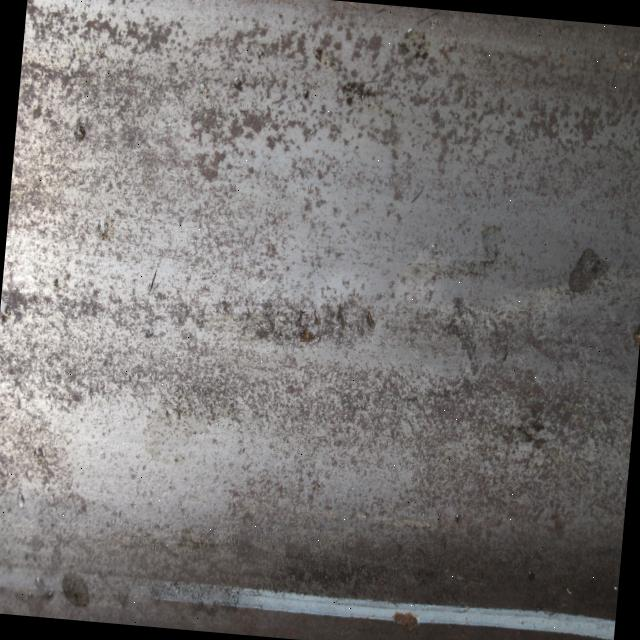Contact_Fatigue_Cracks: (241, 280, 378, 352), (1, 282, 109, 334), (562, 244, 614, 303)
